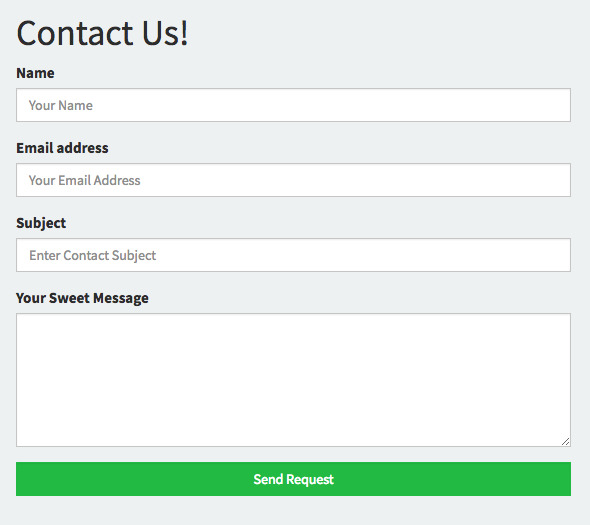_form_: (9, 60, 577, 280), (7, 286, 575, 506)
button: (13, 460, 572, 498)
field: (14, 311, 571, 449), (14, 161, 573, 198), (14, 236, 572, 273), (15, 86, 572, 123)
